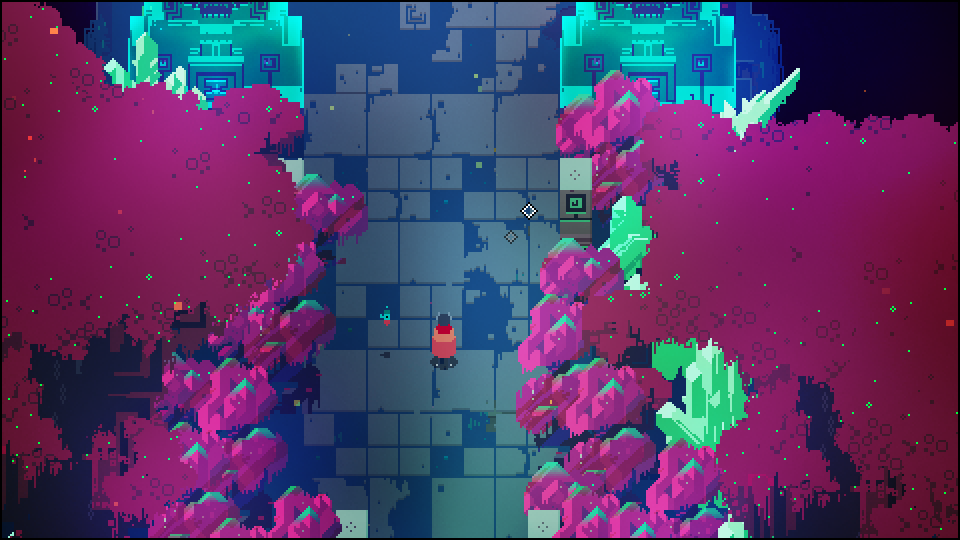player: (433, 315, 458, 362)
